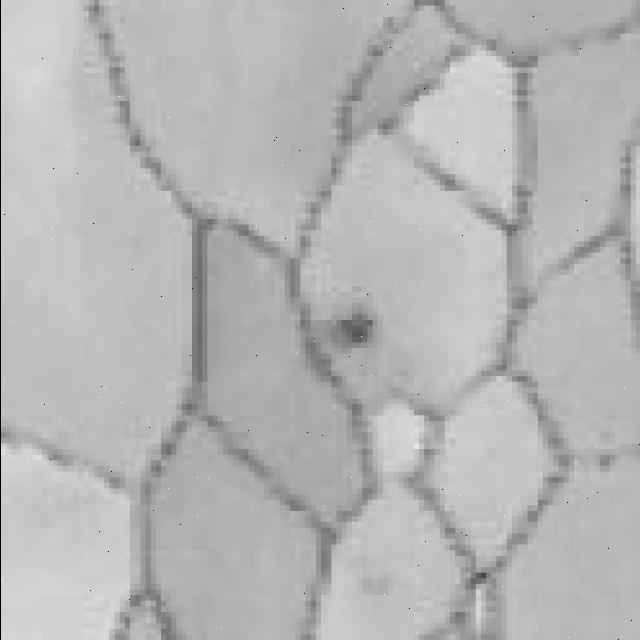good_void: (330, 320, 372, 348), (599, 460, 614, 472)
